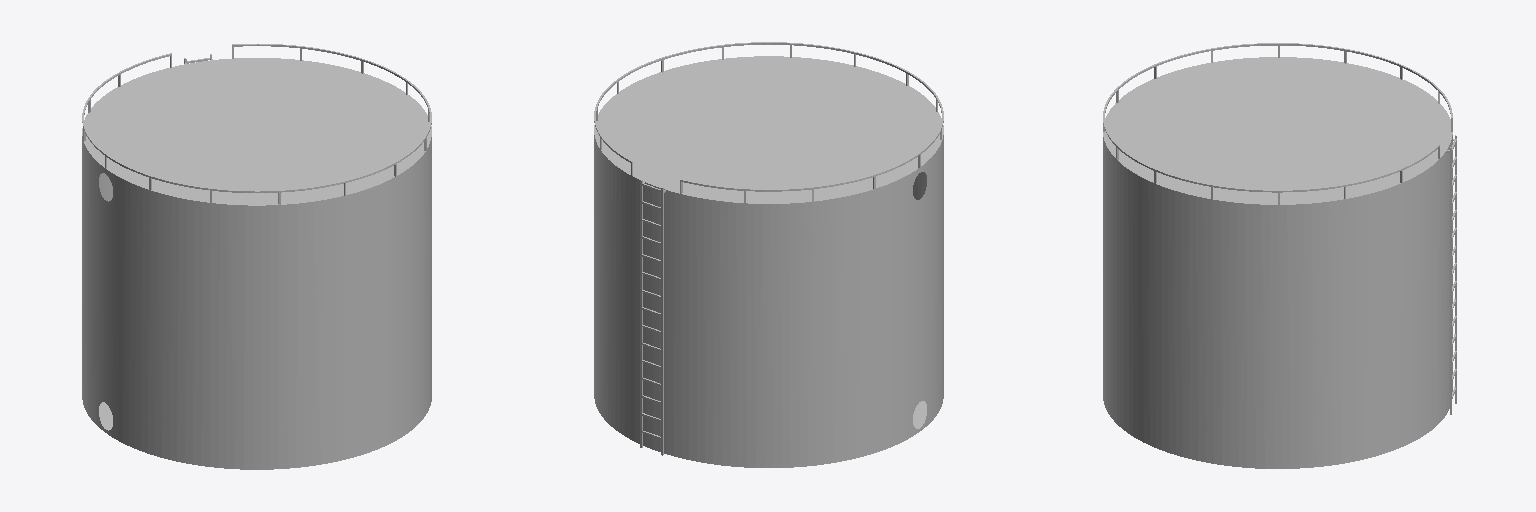
Rendered from reservoir_base.obj.
3 views of the same model, side by side, from view 1: azimuth 30°, elevation 25°; view 2: azimuth 150°, elevation 25°; view 3: azimuth 270°, elevation 25° (orthographic).
Visible parts, largest first — view 1: obj1; view 2: obj1; view 3: obj1.
Boxes of the visible parts, box(x1,y1,x2,y2) form: obj1: box(82, 44, 431, 469); obj1: box(594, 42, 943, 467); obj1: box(1103, 43, 1456, 468).
Size of the model in its own units: 18.01 by 15.8 by 18.22.